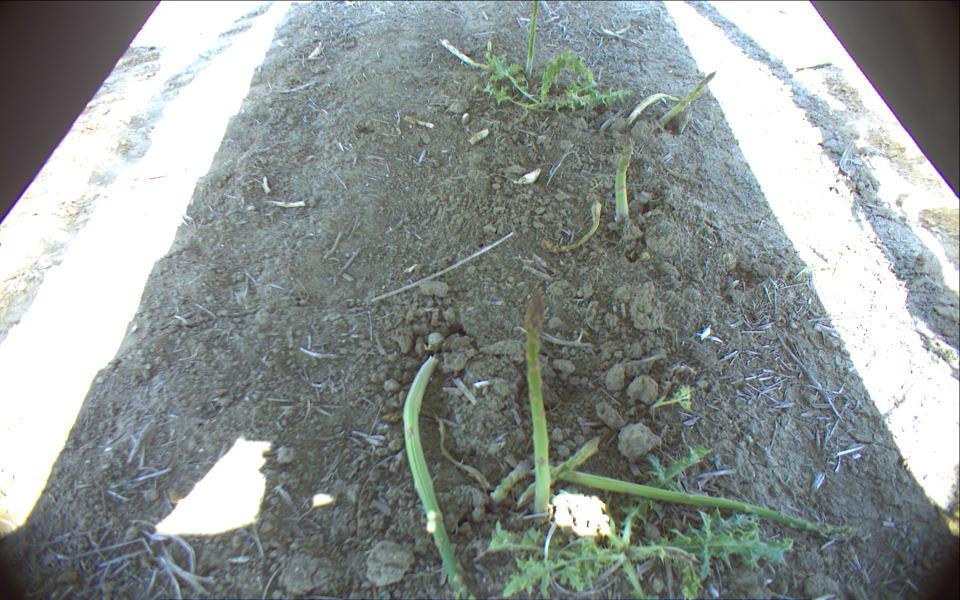aspa: (528, 464, 855, 540), (402, 358, 474, 600), (518, 293, 549, 524), (514, 436, 600, 511), (542, 201, 602, 257), (657, 71, 716, 127), (621, 93, 682, 129), (615, 135, 637, 227), (440, 37, 494, 72), (490, 459, 530, 502), (525, 1, 539, 75), (488, 39, 494, 55)
